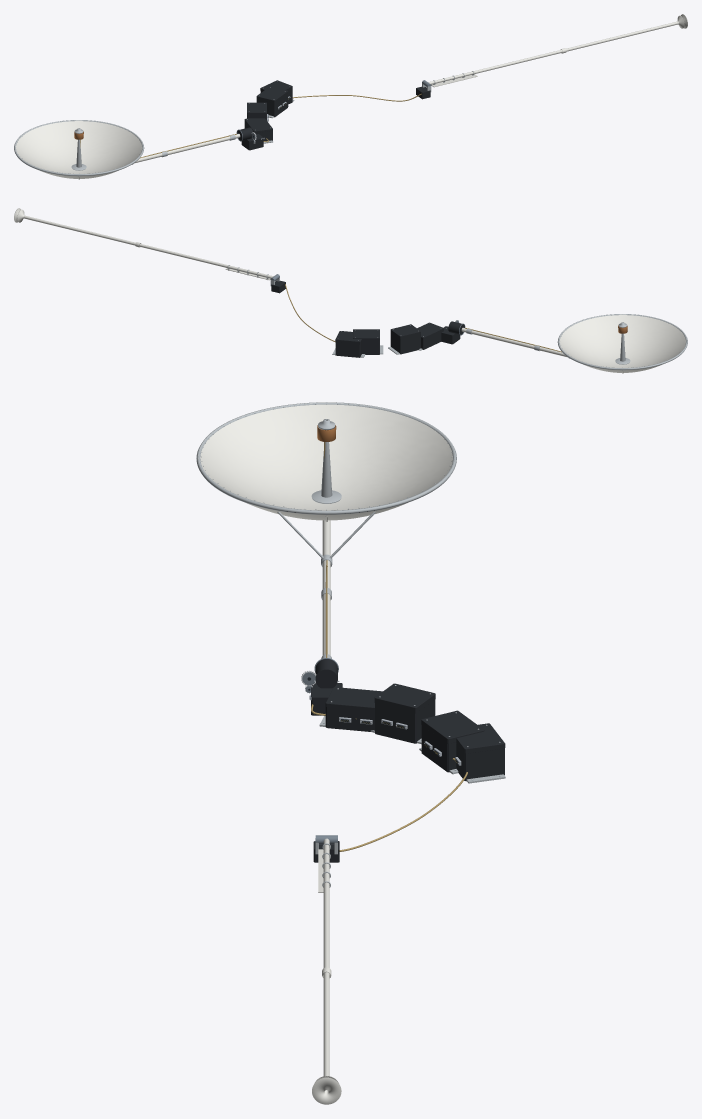
The model's file is orbiter-antenna.glb.
The picture shows the model from 3 angles, top to bottom: view 1: azimuth 30°, elevation 25°; view 2: azimuth 150°, elevation 25°; view 3: azimuth 270°, elevation 25°; orthographic projection. The views are drawn at different scales.
Visible parts, largest first — view 1: REFLECTOR_LO1_white_honeycomb_reflector_coating, LOW_GAIN_BOOM_LO1_deck_ring_white_coating, REFLECTOR_LO1_machined_aluminium_structure, ANTENNA_BOOM_LO1_deck_ring_white_coating, HIGH_GAIN_DRIVE_LO1_black_anodized_equipment_enclosure, MULTIPLEX_ENCODER_COVER_LO1_black_anodized_equipment_enclosu, MULTIPLEX_ENCODER_HOUSING_LO1_black_anodized_equipment_enclo, TWTA_COVER_LO1_black_anodized_equipment_enclosure, COMMAND_DECODER_COVER_LO1_black_anodized_equipment_enclosure; view 2: REFLECTOR_LO1_white_honeycomb_reflector_coating, LOW_GAIN_BOOM_LO1_deck_ring_white_coating, REFLECTOR_LO1_machined_aluminium_structure, COMMAND_DECODER_HOUSING_LO1_black_anodized_equipment_enclosu, ANTENNA_BOOM_LO1_deck_ring_white_coating, HIGH_GAIN_DRIVE_LO1_black_anodized_equipment_enclosure, TRANSPONDER_HOUSING_LO1_black_anodized_equipment_enclosure, MULTIPLEX_ENCODER_COVER_LO1_black_anodized_equipment_enclosu, COMMAND_DECODER_COVER_LO1_black_anodized_equipment_enclosure; view 3: REFLECTOR_LO1_white_honeycomb_reflector_coating, REFLECTOR_LO1_machined_aluminium_structure, LOW_GAIN_BOOM_LO1_deck_ring_white_coating, COMMAND_DECODER_HOUSING_LO1_black_anodized_equipment_enclosu, TRANSPONDER_HOUSING_LO1_black_anodized_equipment_enclosure, MULTIPLEX_ENCODER_COVER_LO1_black_anodized_equipment_enclosu, COMMAND_DECODER_COVER_LO1_black_anodized_equipment_enclosure, HIGH_GAIN_DRIVE_LO1_black_anodized_equipment_enclosure, TWTA_COVER_LO1_black_anodized_equipment_enclosure, ANTENNA_BOOM_LO1_deck_ring_white_coating.
Boxes of the visible parts, <box> form: REFLECTOR_LO1_white_honeycomb_reflector_coating: <box>15,120,142,173</box>; LOW_GAIN_BOOM_LO1_deck_ring_white_coating: <box>428,21,677,84</box>; REFLECTOR_LO1_machined_aluminium_structure: <box>14,120,144,176</box>; ANTENNA_BOOM_LO1_deck_ring_white_coating: <box>134,133,240,163</box>; HIGH_GAIN_DRIVE_LO1_black_anodized_equipment_enclosure: <box>237,127,263,150</box>; MULTIPLEX_ENCODER_COVER_LO1_black_anodized_equipment_enclosu: <box>256,86,287,102</box>; MULTIPLEX_ENCODER_HOUSING_LO1_black_anodized_equipment_enclo: <box>256,94,287,117</box>; TWTA_COVER_LO1_black_anodized_equipment_enclosure: <box>244,118,272,133</box>; COMMAND_DECODER_COVER_LO1_black_anodized_equipment_enclosure: <box>247,102,266,115</box>; REFLECTOR_LO1_white_honeycomb_reflector_coating: <box>559,314,686,367</box>; LOW_GAIN_BOOM_LO1_deck_ring_white_coating: <box>24,215,273,278</box>; REFLECTOR_LO1_machined_aluminium_structure: <box>557,314,687,370</box>; COMMAND_DECODER_HOUSING_LO1_black_anodized_equipment_enclosu: <box>390,332,420,354</box>; ANTENNA_BOOM_LO1_deck_ring_white_coating: <box>461,327,567,357</box>; HIGH_GAIN_DRIVE_LO1_black_anodized_equipment_enclosure: <box>441,321,464,344</box>; TRANSPONDER_HOUSING_LO1_black_anodized_equipment_enclosure: <box>335,341,361,357</box>; MULTIPLEX_ENCODER_COVER_LO1_black_anodized_equipment_enclosu: <box>353,329,379,340</box>; COMMAND_DECODER_COVER_LO1_black_anodized_equipment_enclosure: <box>390,324,420,338</box>; REFLECTOR_LO1_white_honeycomb_reflector_coating: <box>198,402,454,510</box>; REFLECTOR_LO1_machined_aluminium_structure: <box>196,402,456,514</box>; LOW_GAIN_BOOM_LO1_deck_ring_white_coating: <box>323,838,329,1076</box>; COMMAND_DECODER_HOUSING_LO1_black_anodized_equipment_enclosu: <box>375,699,435,743</box>; TRANSPONDER_HOUSING_LO1_black_anodized_equipment_enclosure: <box>456,743,504,781</box>; MULTIPLEX_ENCODER_COVER_LO1_black_anodized_equipment_enclosu: <box>421,710,484,743</box>; COMMAND_DECODER_COVER_LO1_black_anodized_equipment_enclosure: <box>374,683,435,713</box>; HIGH_GAIN_DRIVE_LO1_black_anodized_equipment_enclosure: <box>311,659,342,715</box>; TWTA_COVER_LO1_black_anodized_equipment_enclosure: <box>325,687,382,711</box>; ANTENNA_BOOM_LO1_deck_ring_white_coating: <box>322,520,330,655</box>.
Size of the model in its own units: 5.46 by 0.4692 by 1.1.
